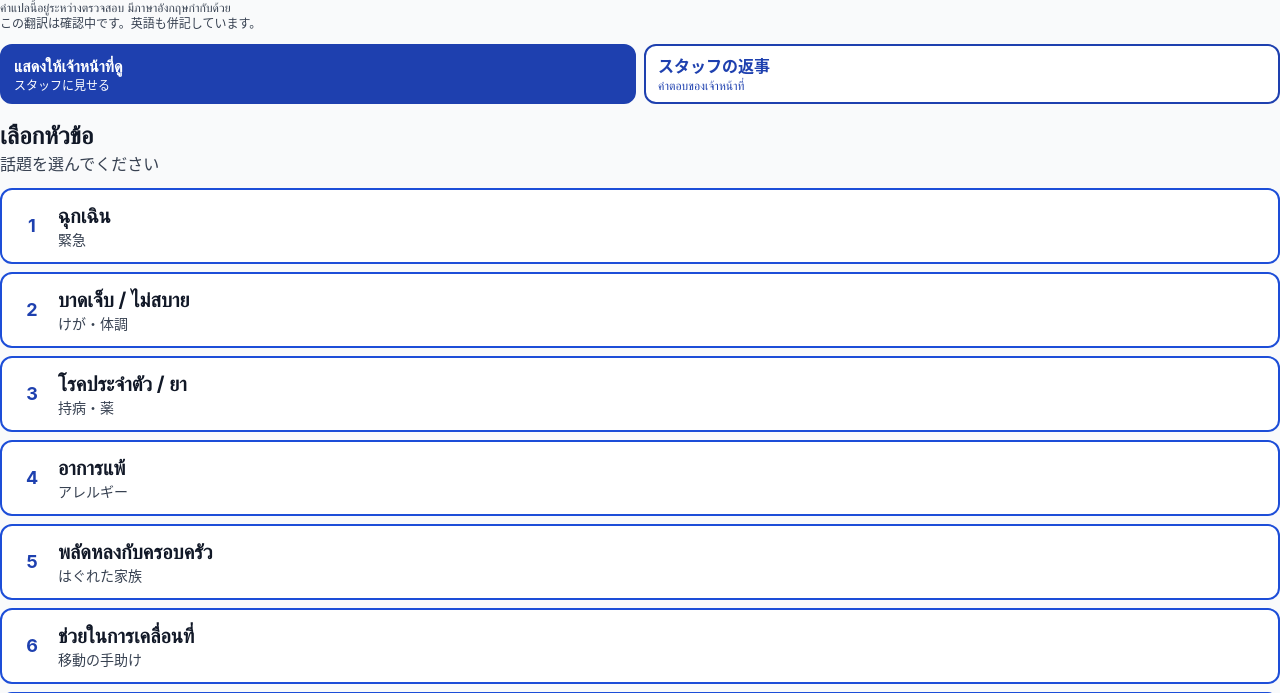
Test: ConversationCards: 読み上げ › スタッフに見せるカードは日本語の音声で、押したときだけ読む。停止で cancel する
This screenshot has width=1280, height=693.
What coordinates should you click on to do the following:
click the button "2 บาดเจ็บ / ไม่สบาย けが・体調"
I would click on:
 (124, 300)
Its box is [0,272,1279,348].
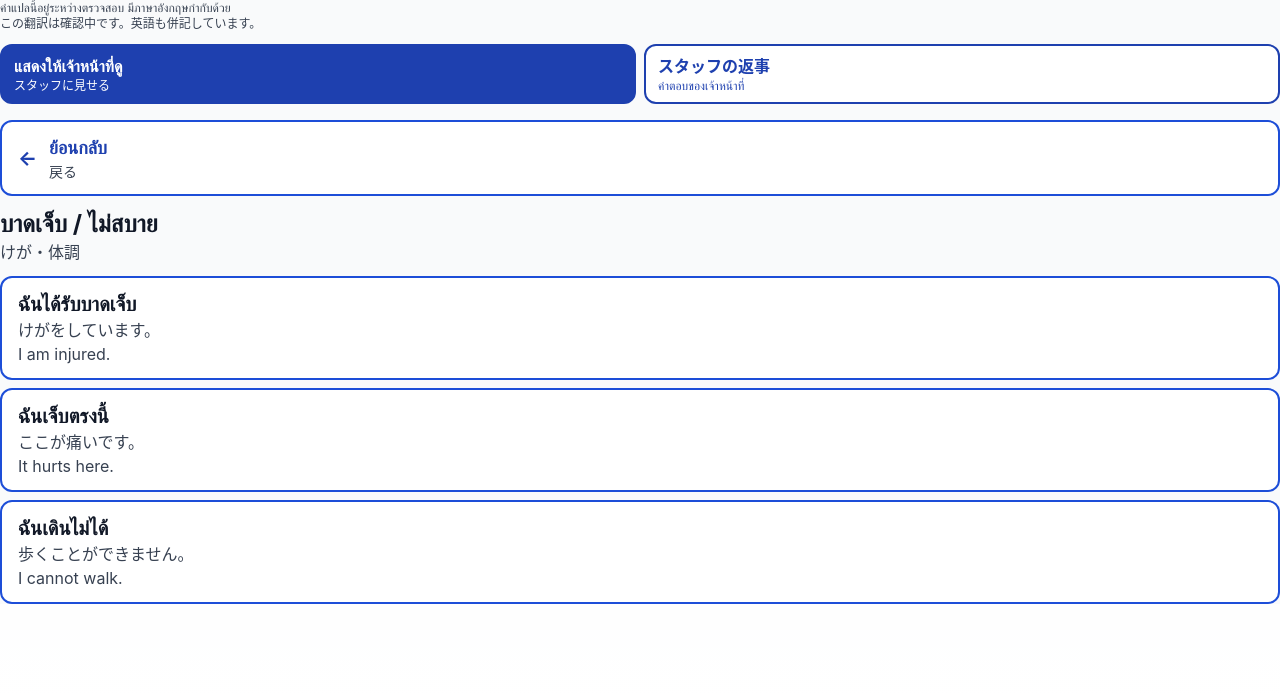
What coordinates should you click on to do the following:
click the button "ฉันได้รับบาดเจ็บ けがをしています。 I am injured."
I would click on:
 (77, 304)
Its box is [0,276,1279,380].
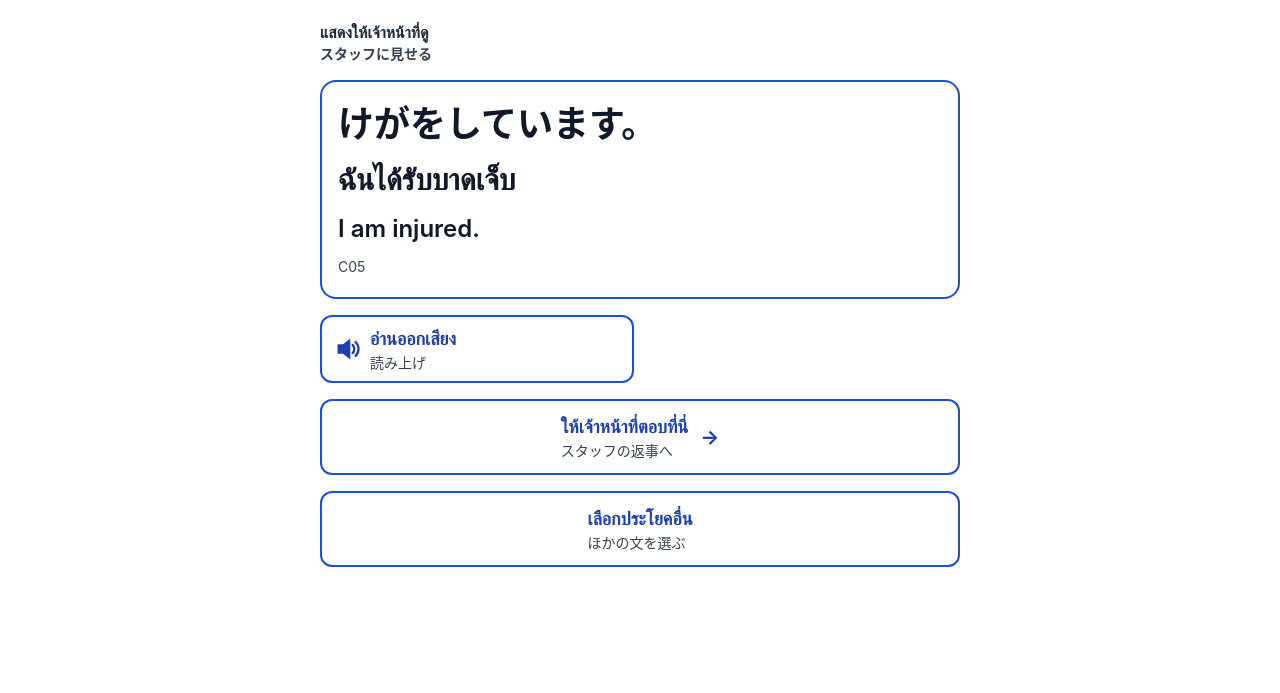
What coordinates should you click on to do the following:
click the button with test id "conv-speak"
I would click on:
 (413, 339)
Its box is [320,315,634,383].
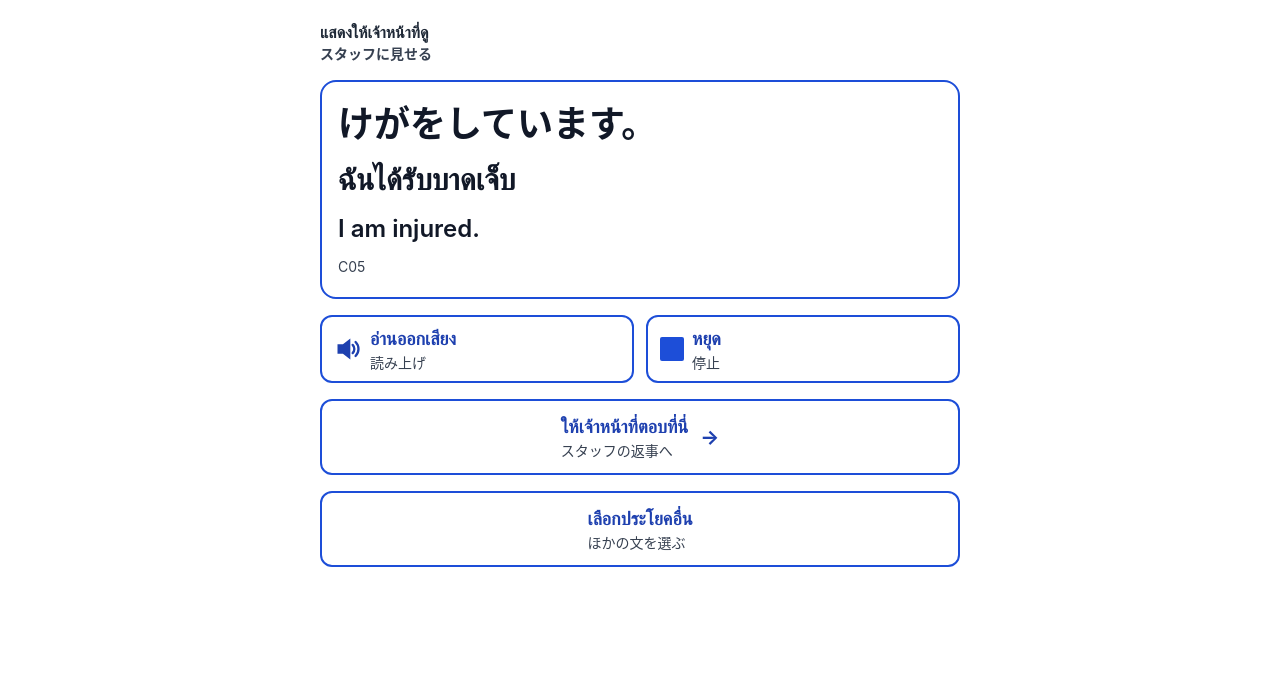
What coordinates should you click on to do the following:
click the button with test id "conv-stop"
I would click on:
 (672, 349)
Its box is [646,315,960,383].
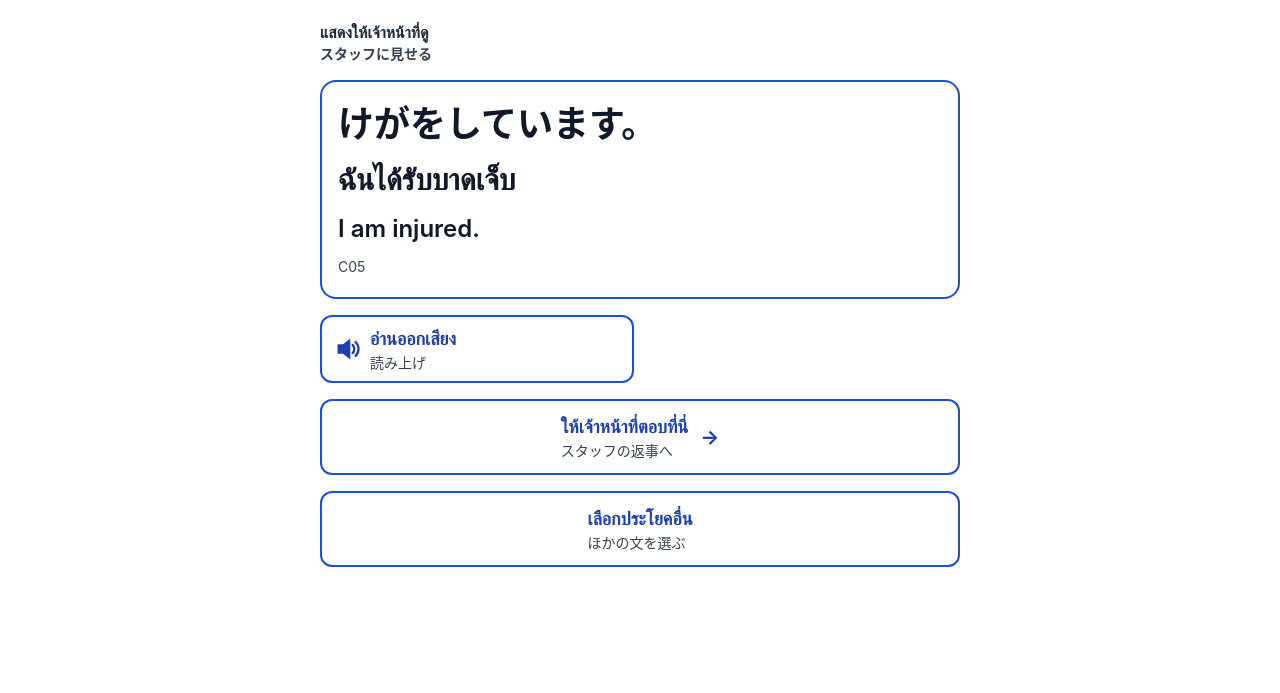
Expected: the button with test id "conv-stop" is gone
